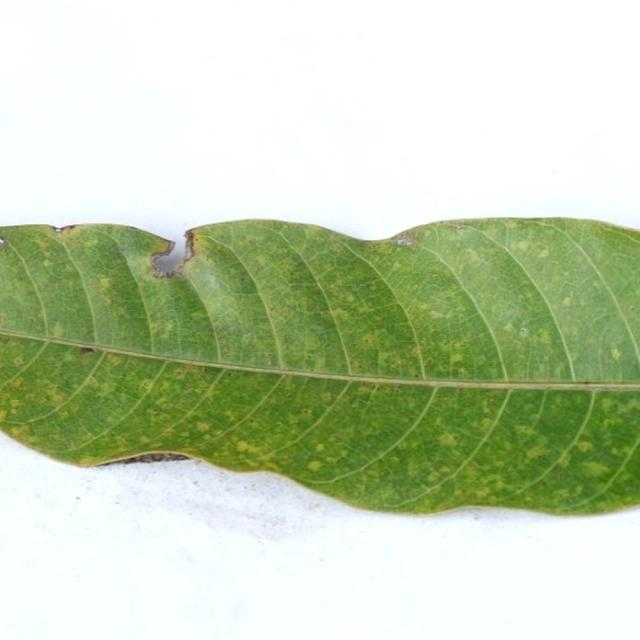Mango: (0, 218, 639, 520)
Powdery_Mildew: (432, 424, 464, 453), (571, 436, 597, 457), (309, 459, 332, 480), (582, 461, 608, 475), (10, 425, 33, 440), (525, 446, 547, 459), (44, 389, 63, 404), (463, 248, 480, 264), (378, 350, 393, 368), (312, 354, 327, 371), (81, 376, 99, 390), (514, 240, 534, 252), (428, 309, 451, 319), (486, 475, 505, 487), (97, 275, 112, 290), (600, 398, 616, 412), (51, 322, 65, 338), (386, 358, 402, 371), (332, 309, 349, 321), (474, 487, 490, 499), (139, 380, 154, 392), (611, 346, 623, 361), (236, 441, 252, 452), (8, 378, 24, 389), (553, 489, 569, 500), (360, 335, 374, 347), (480, 418, 495, 429), (449, 353, 464, 364), (307, 460, 322, 471), (67, 236, 82, 247), (113, 437, 129, 447), (539, 333, 552, 345), (8, 399, 22, 410), (554, 364, 565, 378), (612, 446, 629, 455), (503, 321, 515, 333), (442, 339, 458, 348), (12, 356, 25, 367), (327, 284, 341, 294), (505, 219, 520, 228), (537, 247, 549, 258), (427, 472, 440, 482), (196, 422, 210, 431), (149, 322, 160, 333), (398, 442, 411, 451), (482, 400, 493, 410), (320, 393, 332, 402), (562, 296, 572, 306), (573, 484, 583, 494), (424, 358, 434, 368), (344, 294, 355, 303), (43, 259, 53, 268), (315, 443, 325, 452), (0, 410, 9, 420), (389, 456, 400, 464), (327, 456, 338, 464), (457, 368, 467, 376), (301, 408, 311, 416), (392, 262, 401, 270), (245, 238, 255, 245), (165, 322, 173, 330), (268, 306, 277, 313), (338, 450, 347, 457), (639, 313, 640, 314)
